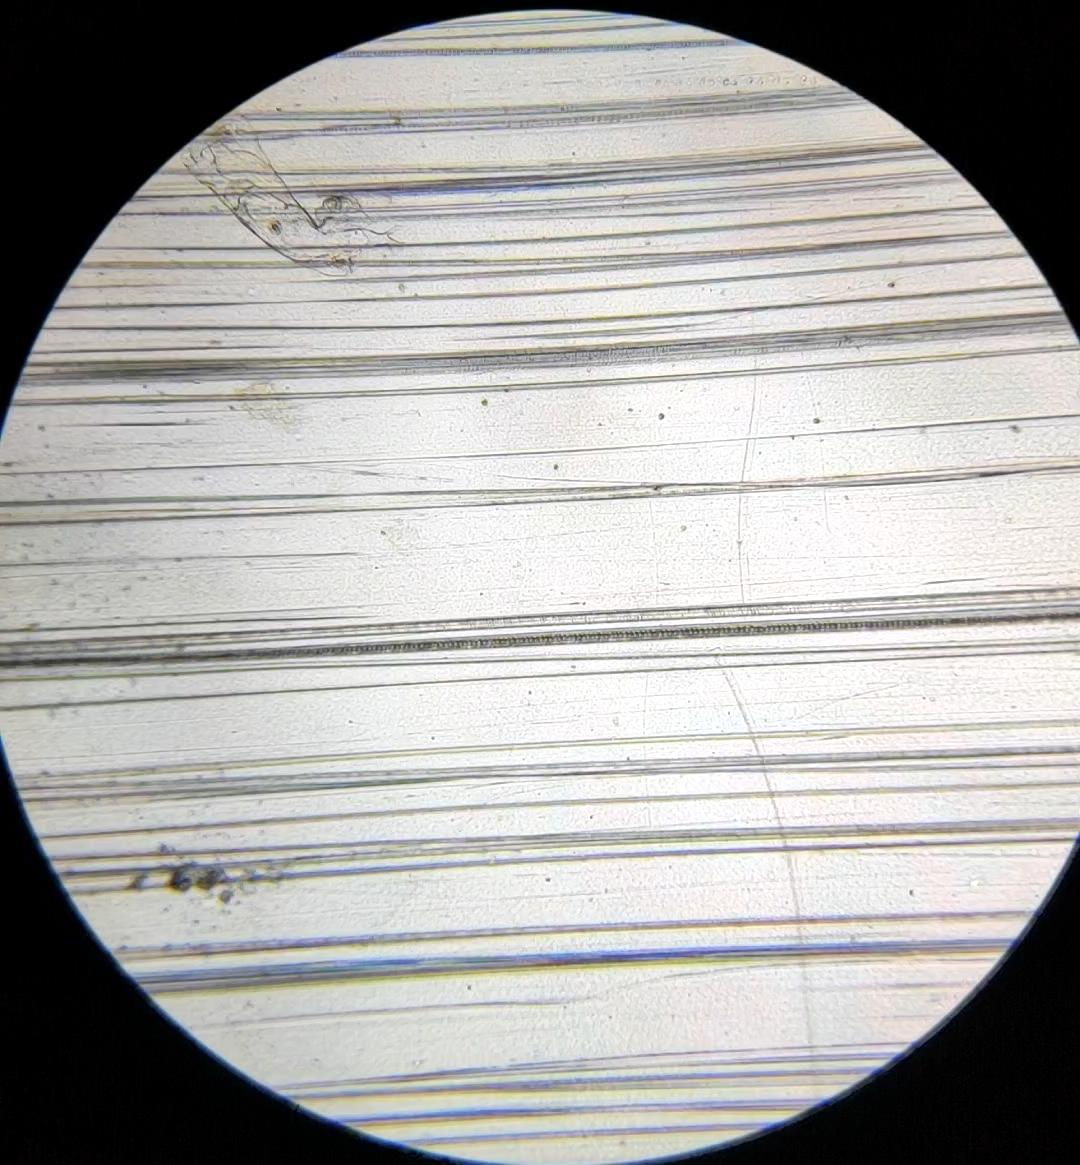Do: (180, 111, 372, 277)
